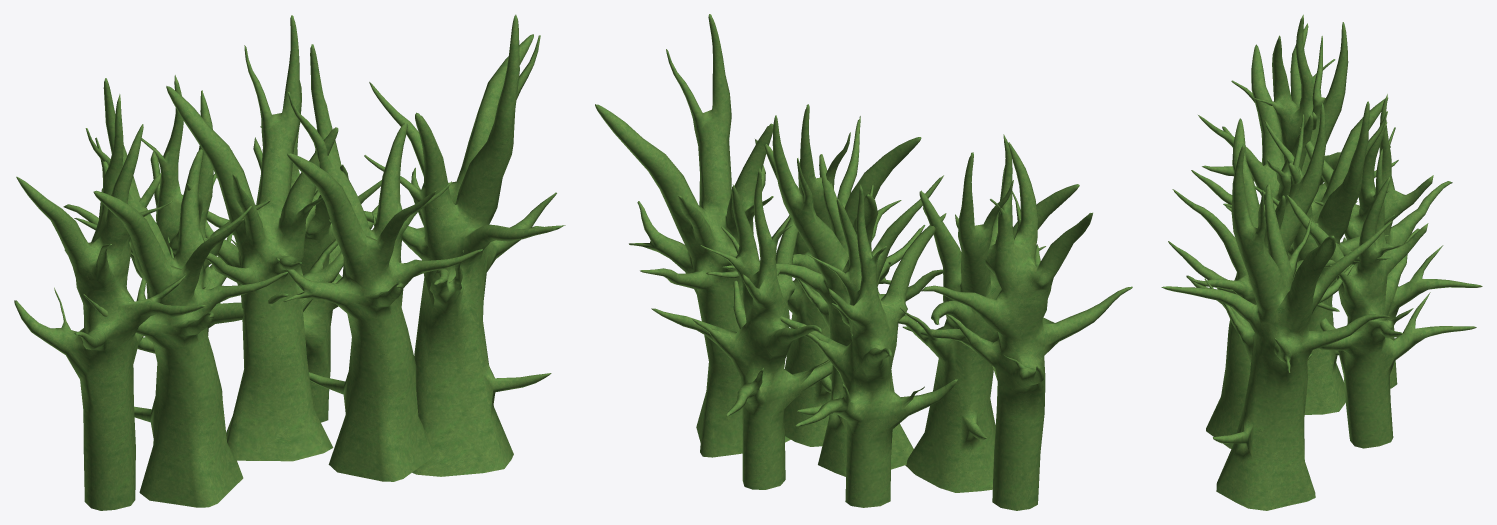
File: SM_ENV_KNFRST_DistanceTree_GroupA.FBX
The picture shows the model from 3 angles, left to right: view 1: azimuth 30°, elevation 25°; view 2: azimuth 150°, elevation 25°; view 3: azimuth 270°, elevation 25°; orthographic projection. The views are drawn at different scales.
Parts seen in each view (by area): view 1: SM_ENV_KNFRST_DistanceTree_GroupA; view 2: SM_ENV_KNFRST_DistanceTree_GroupA; view 3: SM_ENV_KNFRST_DistanceTree_GroupA.
Part boxes in pixels (x1=…): SM_ENV_KNFRST_DistanceTree_GroupA: x1=14, y1=14, x2=565, y2=510; SM_ENV_KNFRST_DistanceTree_GroupA: x1=595, y1=14, x2=1132, y2=510; SM_ENV_KNFRST_DistanceTree_GroupA: x1=1161, y1=14, x2=1482, y2=510.
Bounding box in the file's own units: 12938 × 10384 × 8209.
